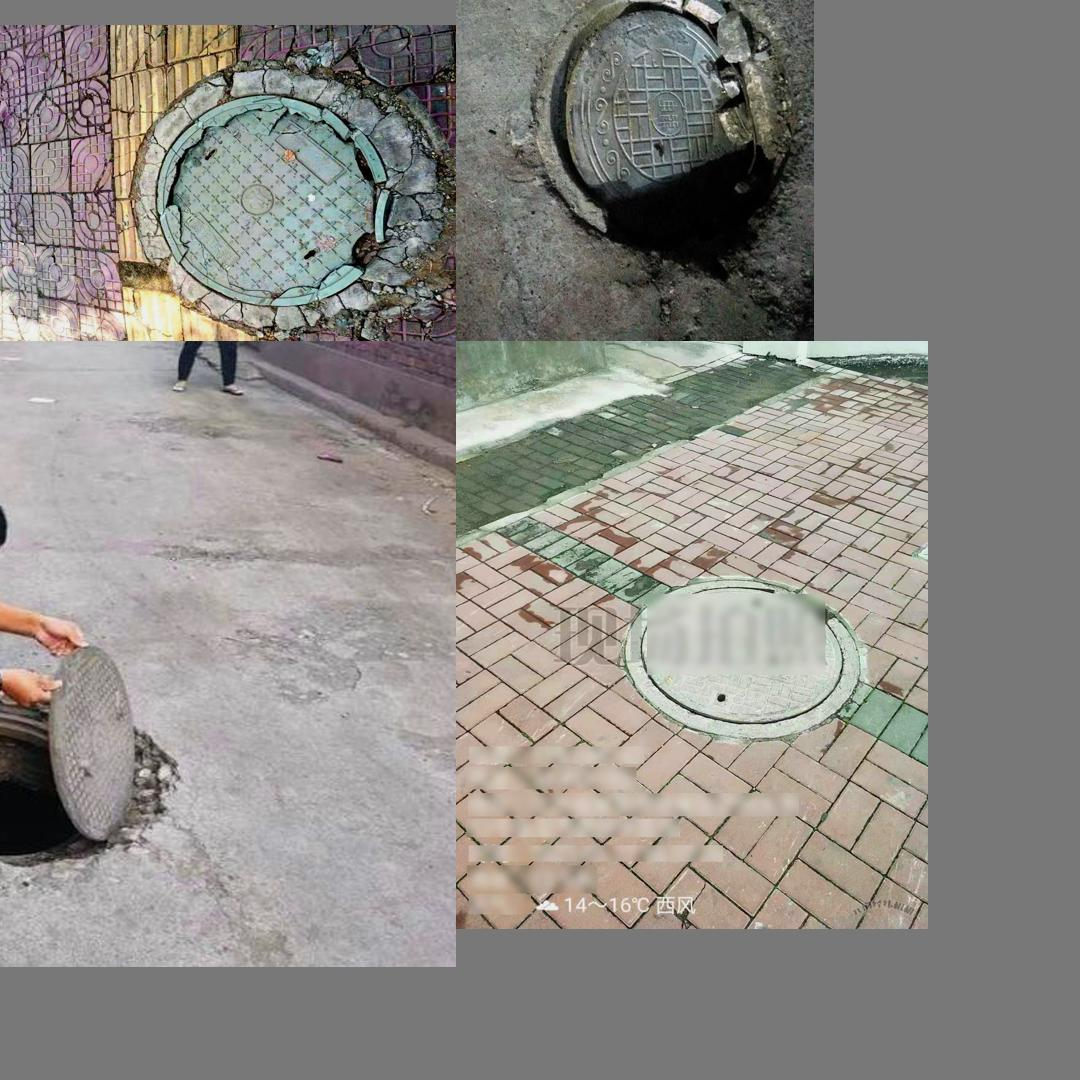circle: (124, 61, 436, 326), (522, 0, 803, 261), (0, 662, 205, 888), (620, 579, 863, 744)
